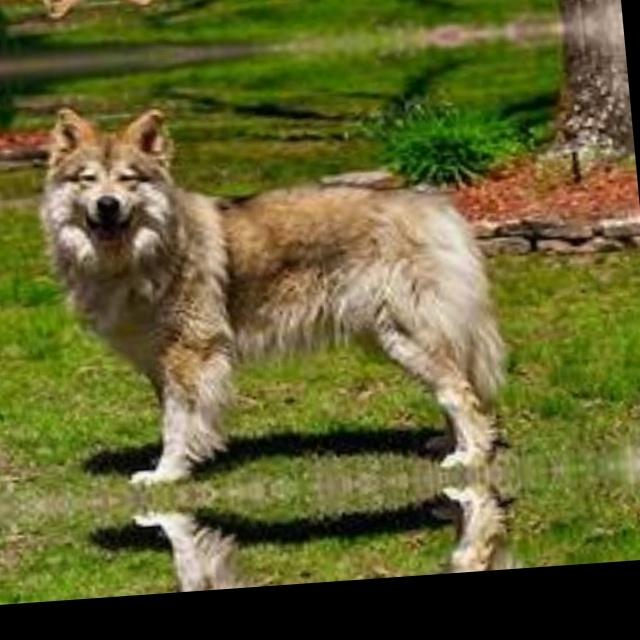dog: (0, 79, 566, 508), (0, 468, 574, 604), (0, 0, 521, 20)
